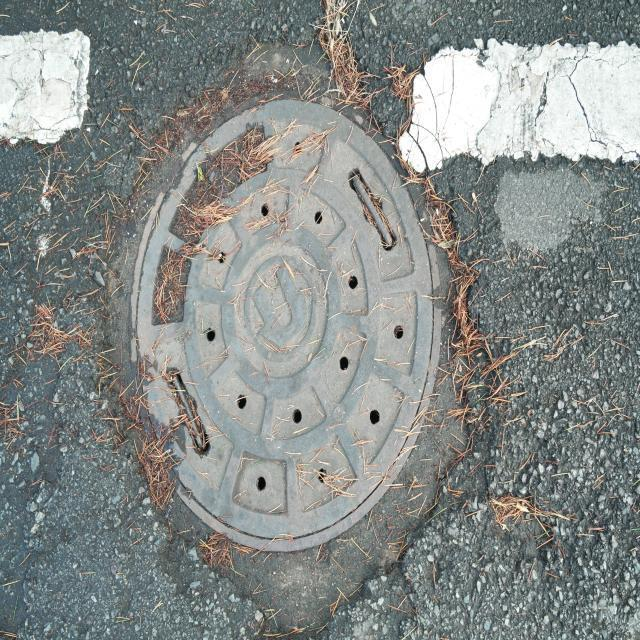manhole: (134, 100, 441, 551)
